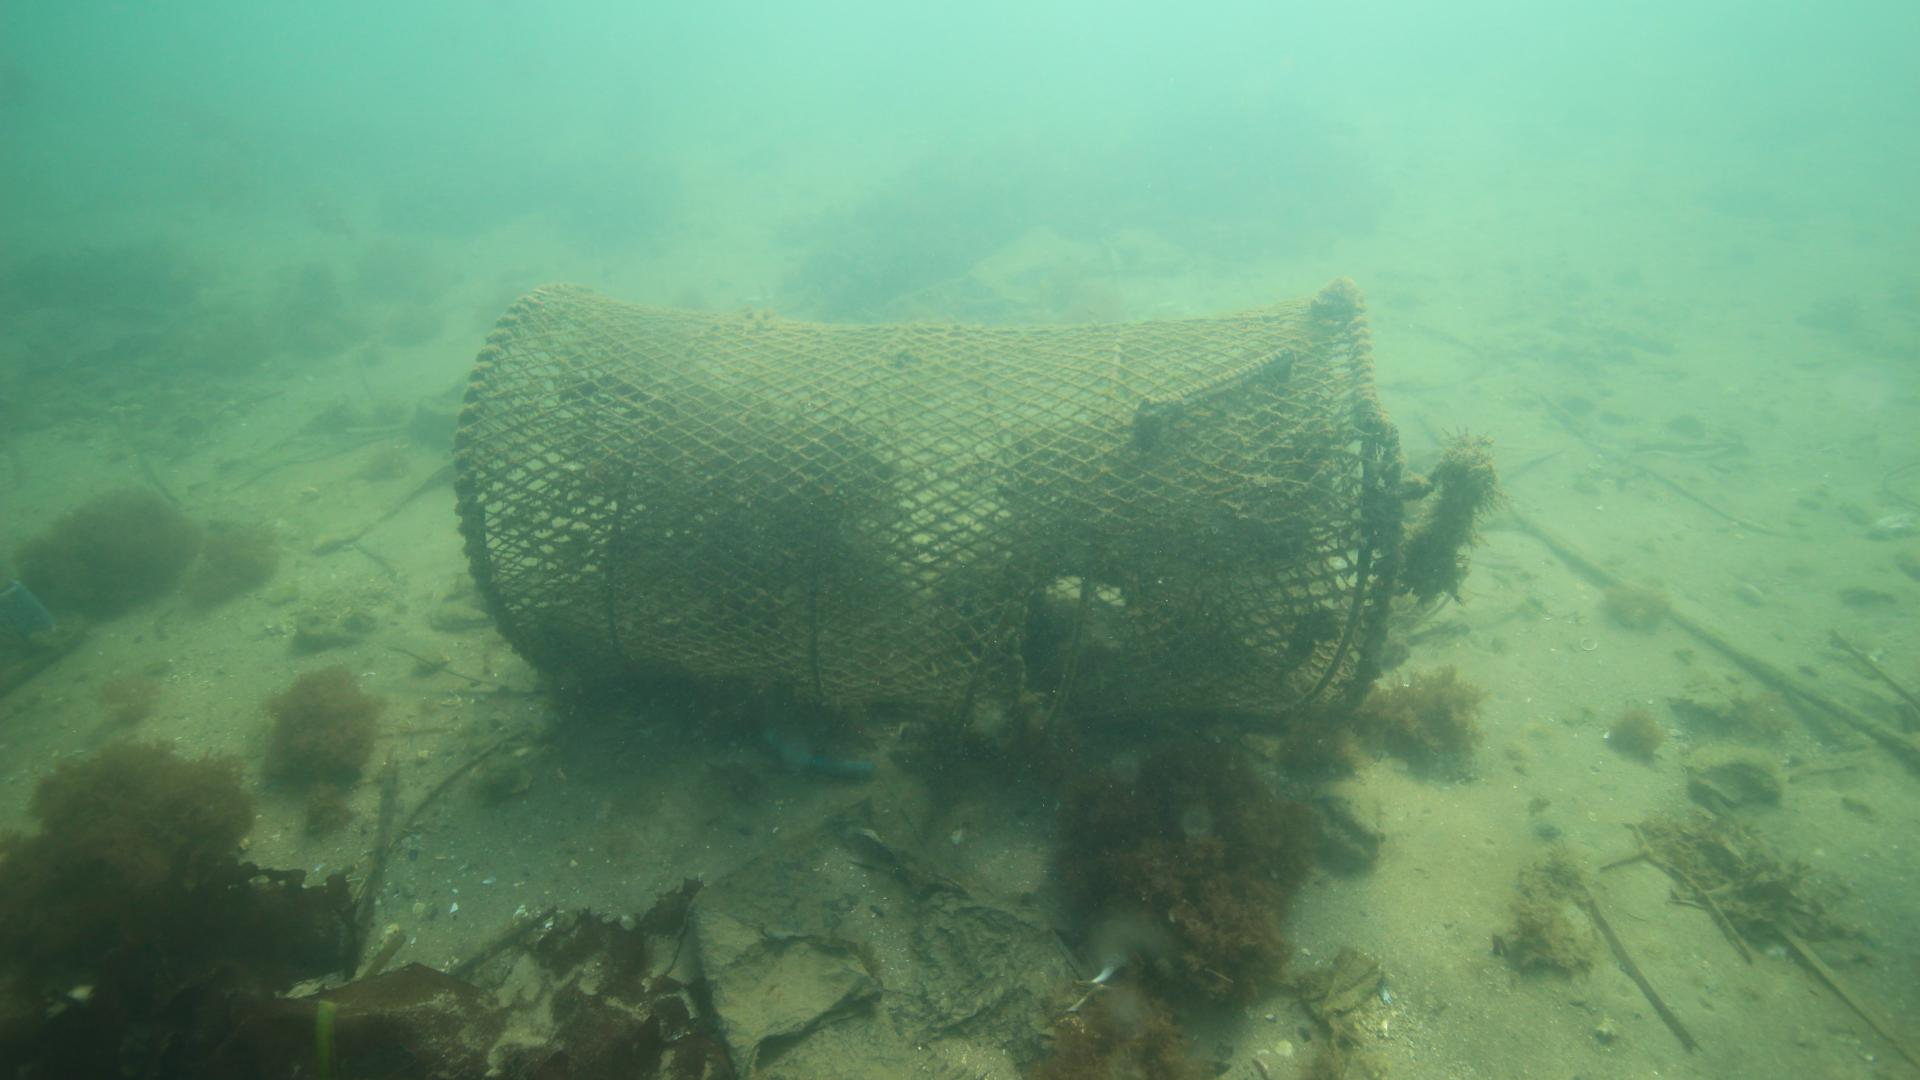spring fish trap: (454, 273, 1404, 731)
